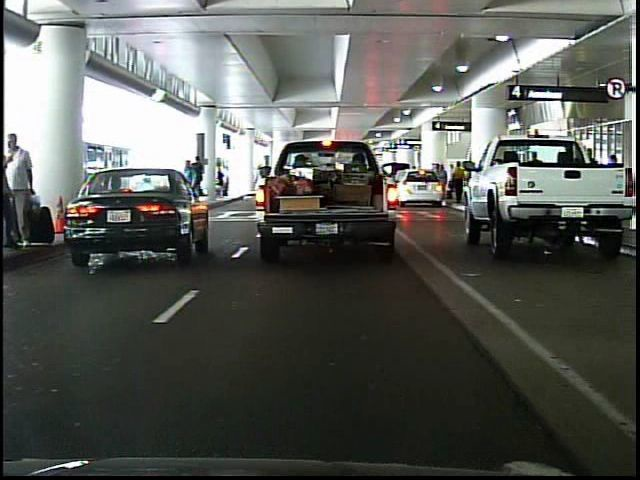person: (8, 130, 39, 250), (176, 153, 208, 225)
